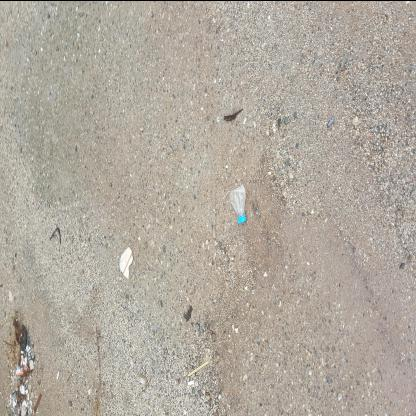plastik: (189, 228, 235, 248)
